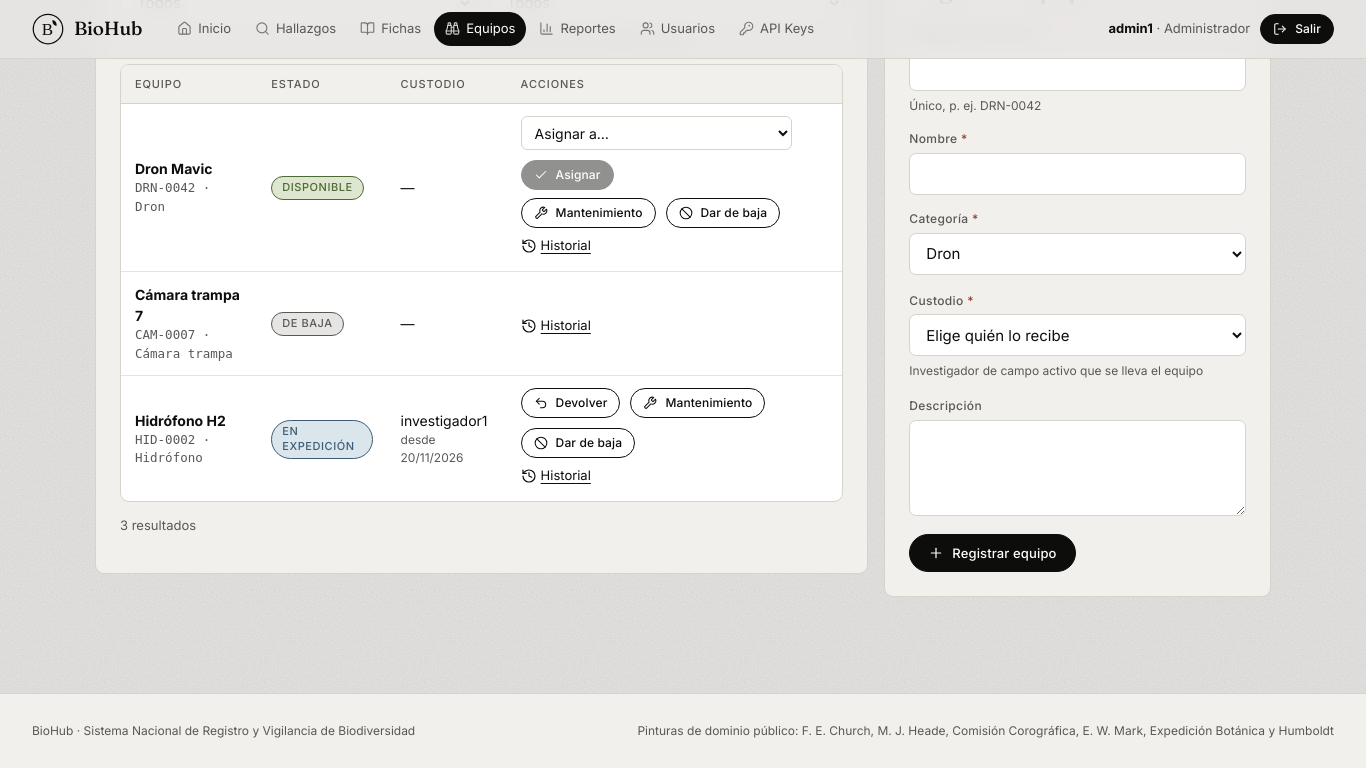
Scenario: Equipos de campo (HU-04) › despliega el historial de custodia de un equipo
This screenshot has width=1366, height=768.
(page scrolled)
What coordinates should you click on to do the following:
click the button "Historial" below "investigador1"
I would click on:
 (556, 476)
Its box is x1=521 y1=466 x2=591 y2=486.
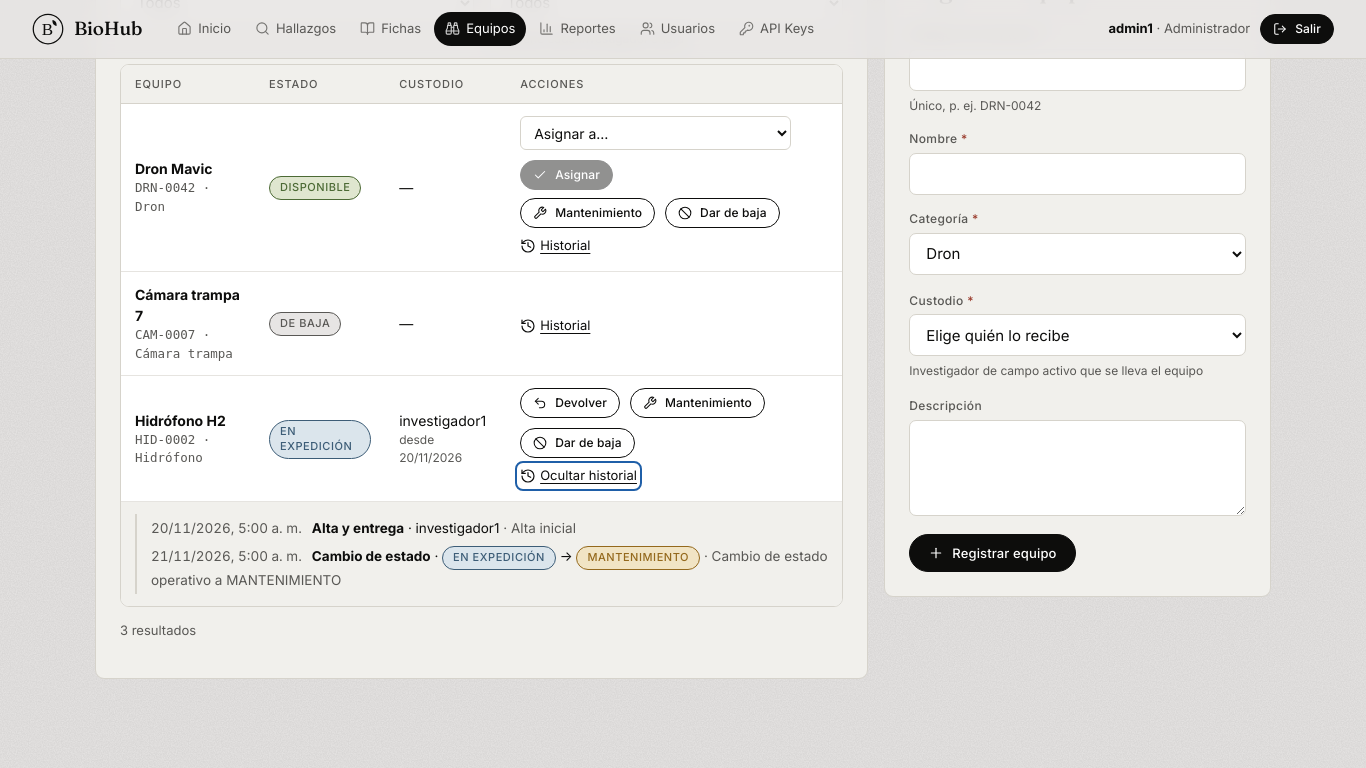
Now the number of list items is 2, box x1=151 y1=520 x2=576 y2=536; x1=151 y1=546 x2=828 y2=590
Now the list item that starts with "20/11/2026, 5:00 a. m." shows "Alta y entrega", box x1=312 y1=520 x2=404 y2=536
Now the list item that starts with "20/11/2026, 5:00 a. m." shows "investigador1", box x1=416 y1=520 x2=500 y2=536
